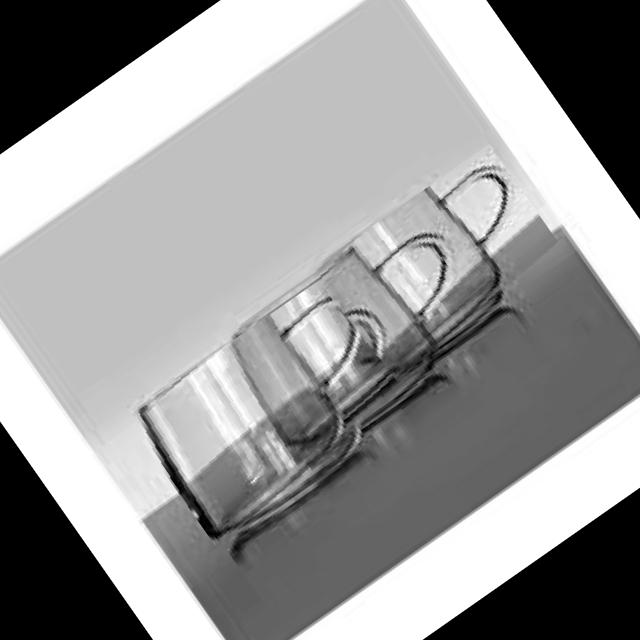Glass: (124, 267, 429, 547), (308, 143, 570, 386)
